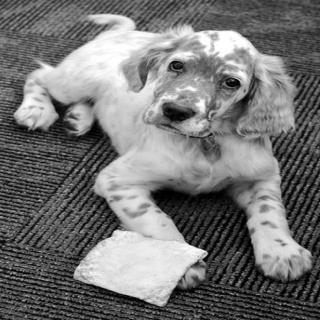dog: (122, 27, 307, 148)
nose: (155, 93, 201, 126)
